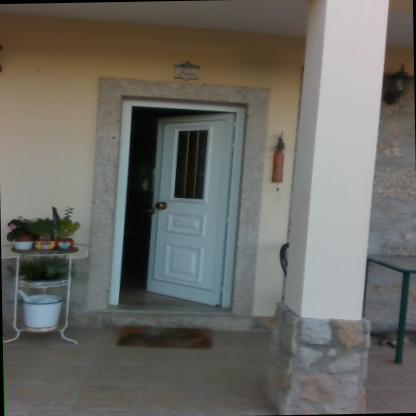semi: (97, 87, 262, 320)
